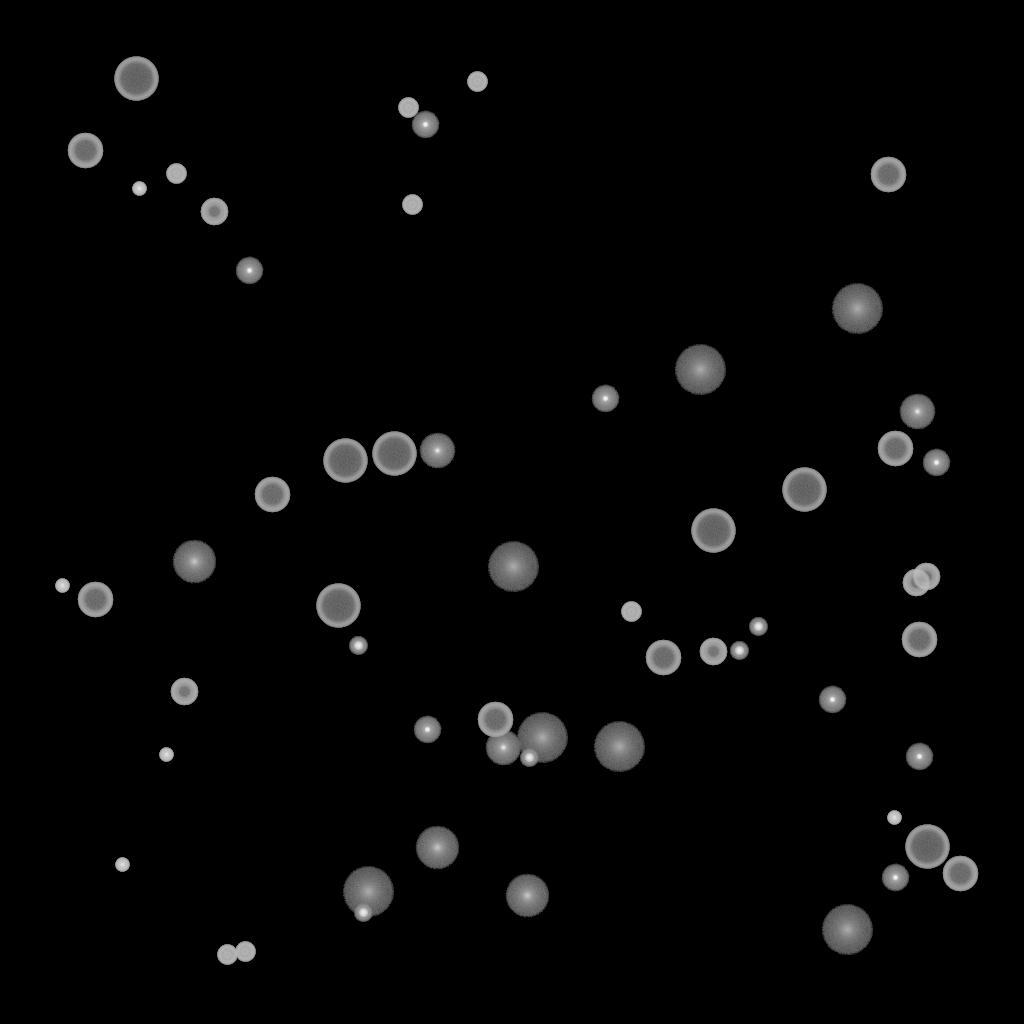depth:-10: (922, 449, 950, 477), (413, 716, 441, 744), (818, 686, 846, 714), (905, 743, 933, 771), (591, 385, 619, 413), (411, 111, 439, 139), (235, 257, 263, 285), (881, 864, 909, 892)
depth:-20: (520, 749, 538, 767), (749, 618, 767, 636), (349, 637, 367, 655), (730, 642, 748, 660), (354, 904, 372, 922)
depth:-30: (55, 579, 69, 593), (115, 858, 129, 872), (159, 748, 173, 762), (132, 182, 146, 196), (887, 811, 901, 825)
depth:-40: (166, 164, 186, 184), (398, 98, 418, 118), (235, 942, 255, 962), (621, 602, 641, 622), (467, 72, 487, 92), (217, 945, 237, 965), (402, 195, 422, 215)
depth:-50: (699, 638, 727, 666), (912, 563, 940, 591), (902, 569, 930, 597), (170, 678, 198, 706), (200, 198, 228, 226)
depth:-60: (870, 157, 906, 193), (67, 133, 103, 169), (901, 622, 937, 658), (254, 477, 290, 513), (477, 702, 513, 738), (77, 582, 113, 618), (942, 856, 978, 892), (877, 431, 913, 467), (645, 640, 681, 676)
depth:-70: (316, 584, 360, 628), (905, 825, 949, 869), (323, 439, 367, 483), (372, 432, 416, 476), (782, 468, 826, 512), (691, 509, 735, 553), (114, 57, 158, 101)
depth:0: (485, 730, 521, 766), (419, 433, 455, 469), (899, 394, 935, 430)
depth:10: (505, 874, 549, 918), (172, 540, 216, 584), (415, 826, 459, 870)
depth:20: (593, 722, 645, 772), (516, 713, 568, 763), (831, 284, 883, 334), (342, 867, 394, 917), (821, 905, 873, 955), (674, 345, 726, 395), (487, 542, 539, 592)
